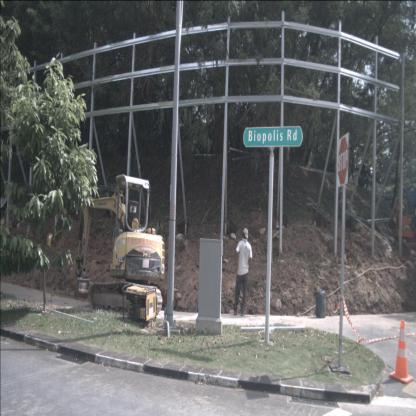human-pedestrian-adult: (234, 228, 252, 316), (358, 164, 369, 192)
movable_object-trafficcone: (389, 318, 413, 384)
